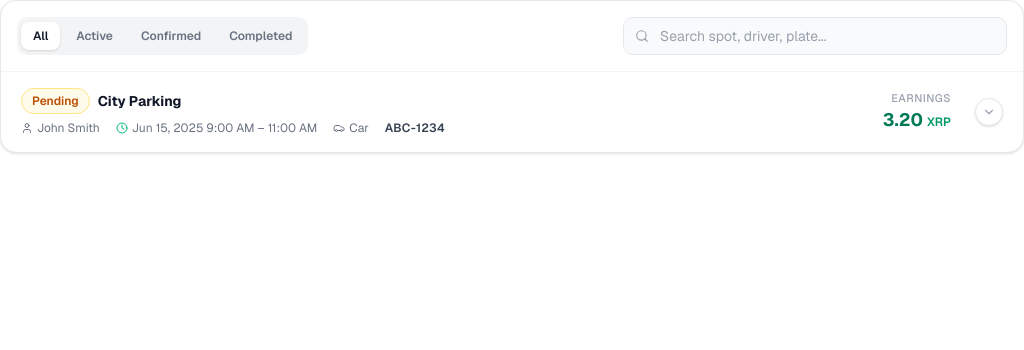
Test: BookingList Component › Row Click - Expand/Collapse › shows driver email in expanded view
The width and height of the screenshot is (1024, 350).
Click the heading "City Parking".
click(140, 101)  # box [98,91,182,111]
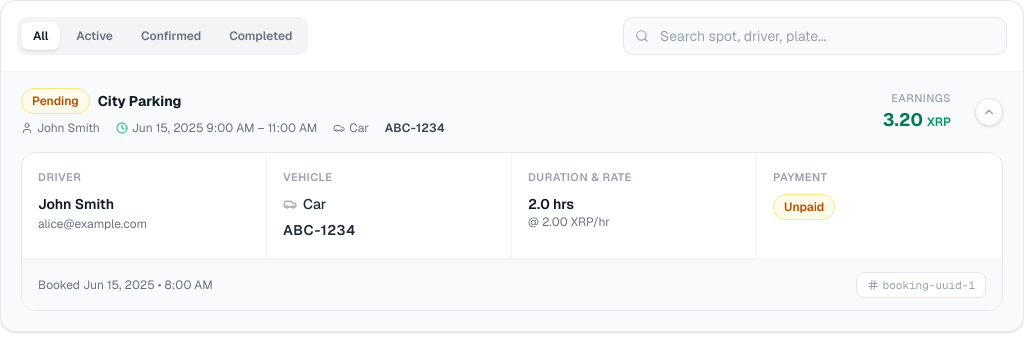
Check: the text "alice@example.com" is shown, box [38,216,147,232]
